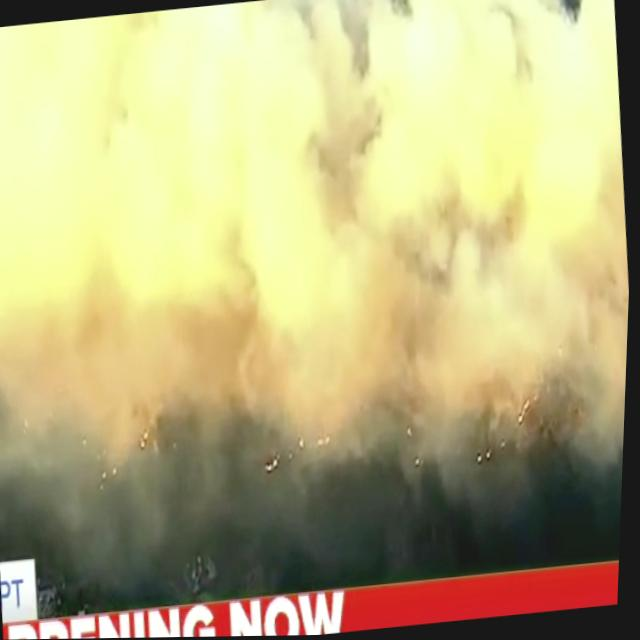smoke: (0, 0, 640, 549), (0, 0, 516, 484), (482, 0, 640, 461)
